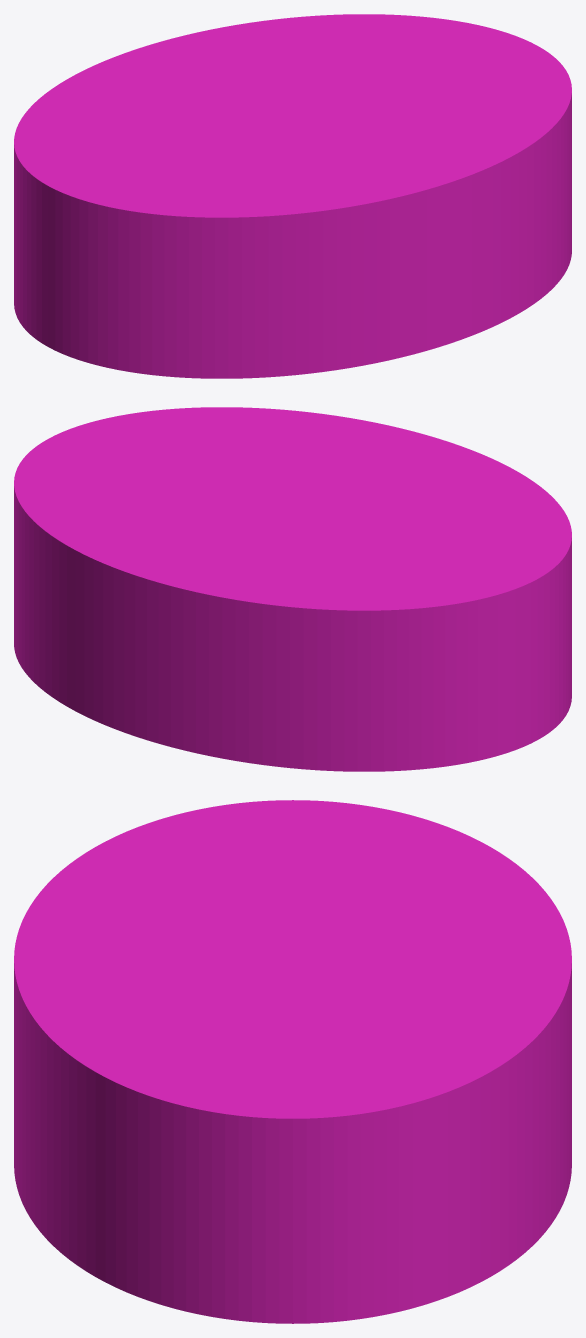
The model's file is ovale_rose.dae.
3 views of the same model, one above another, from view 1: azimuth 30°, elevation 25°; view 2: azimuth 150°, elevation 25°; view 3: azimuth 270°, elevation 25° (orthographic). The views are drawn at different scales.
Parts seen in each view (by area): view 1: Ovale rose; view 2: Ovale rose; view 3: Ovale rose.
Part boxes in pixels (x1,y1,x2,y2): Ovale rose: (14, 14, 571, 378); Ovale rose: (14, 407, 571, 771); Ovale rose: (14, 800, 571, 1323).
Size of the model in its own units: 0.05 by 0.037 by 0.015.
